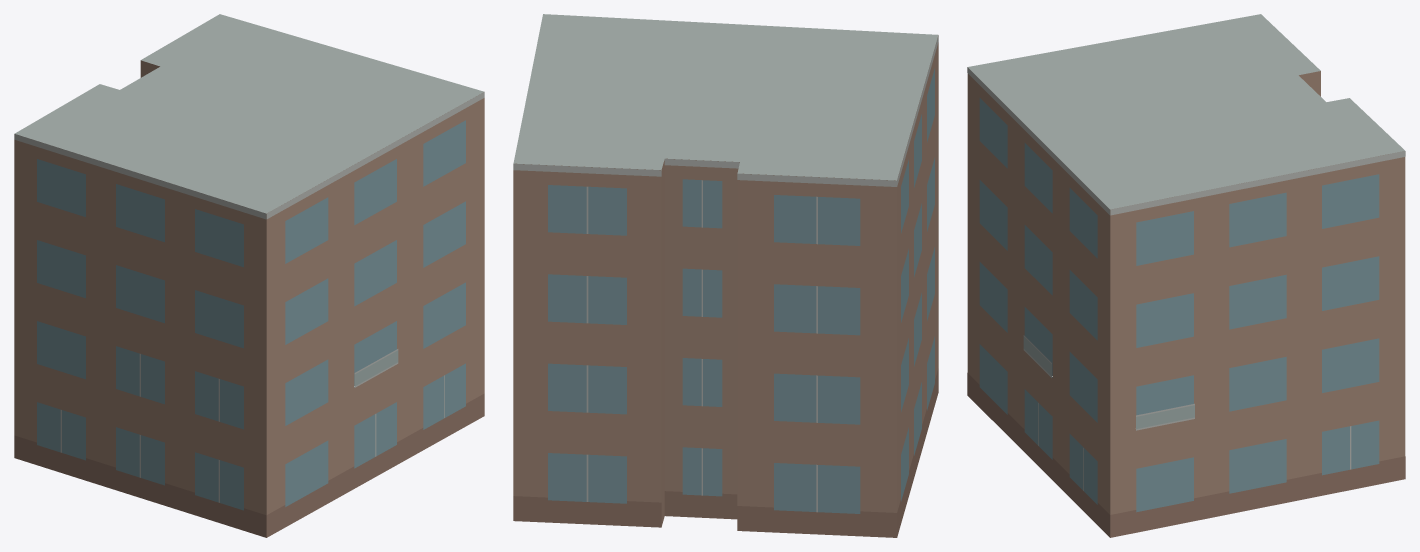
File: survey-upis-32726708.glb
The picture shows the model from 3 angles, left to right: view 1: azimuth 30°, elevation 25°; view 2: azimuth 150°, elevation 25°; view 3: azimuth 270°, elevation 25°; orthographic projection. The views are drawn at different scales.
Parts seen in each view (by area): view 1: survey-upis-32726708.tmp; view 2: survey-upis-32726708.tmp; view 3: survey-upis-32726708.tmp.
Boxes of the visible parts, left/top/right/bottom form: survey-upis-32726708.tmp: left=14, top=14, right=484, bottom=537; survey-upis-32726708.tmp: left=513, top=14, right=938, bottom=537; survey-upis-32726708.tmp: left=967, top=14, right=1405, bottom=537.
Bounding box in the file's own units: 16.99 × 13.3 × 16.08.
